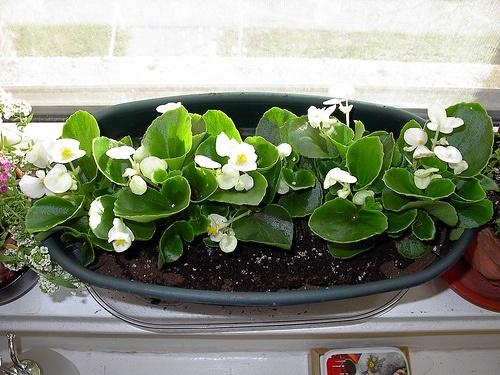pottedplant: (36, 90, 480, 304), (1, 86, 52, 307)
